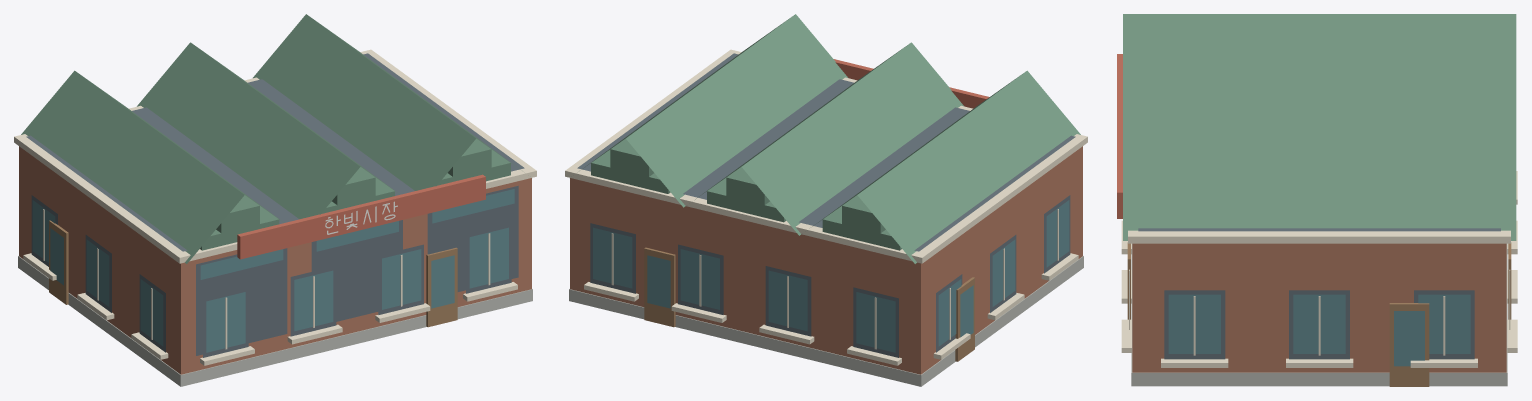
File: q03-market-hall.glb
The picture shows the model from 3 angles, left to right: view 1: azimuth 30°, elevation 25°; view 2: azimuth 150°, elevation 25°; view 3: azimuth 270°, elevation 25°; orthographic projection. The views are drawn at different scales.
Size of the model in its own units: 10.46 by 4.9 by 8.57.
